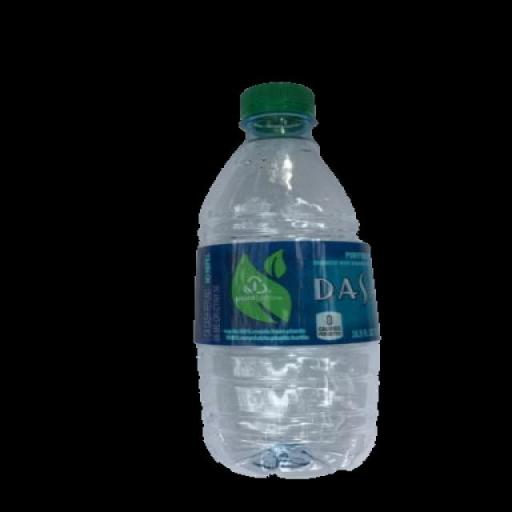plastic: (188, 78, 386, 478)
